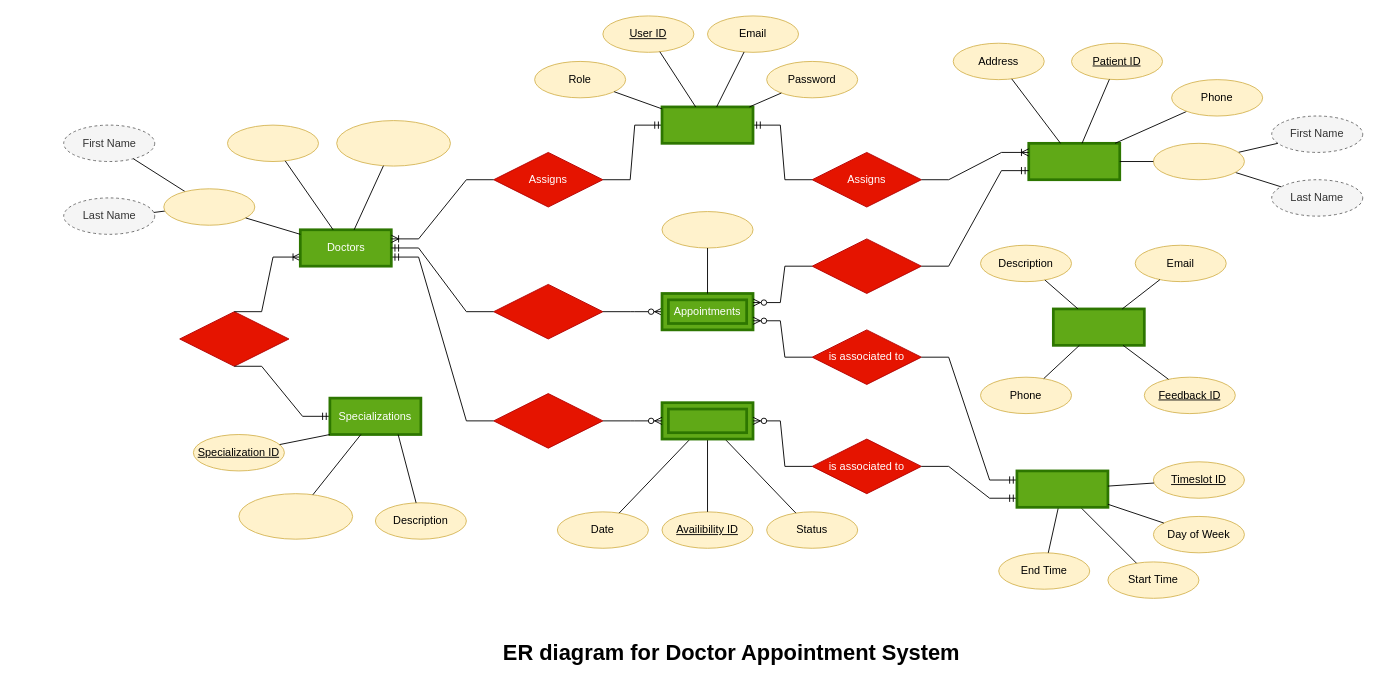
This 1379x687 diagram has some shape labels left out. Each missing label, with the centre of its shape:
"Appointment ID" goes at (x=707, y=229).
"Availibilities" goes at (x=707, y=420).
"Contact Information" goes at (x=393, y=143).
"creates" goes at (x=866, y=265).
"Doctor ID" goes at (x=272, y=143).
"Doctor Name" goes at (x=209, y=206).
"Feedbacks" goes at (x=1098, y=326).
"Has" goes at (x=548, y=420).
"Holds" goes at (x=234, y=338).
"is assigned to" goes at (x=548, y=311).
"Patient Name" goes at (x=1198, y=161).
"Patients" goes at (x=1074, y=161).
"Specialization Name" goes at (x=295, y=516).
"Timeslots" goes at (x=1062, y=488).
"Users" goes at (x=707, y=124).
